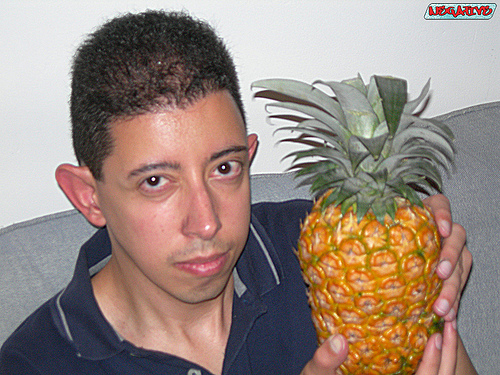pineapple: (249, 70, 458, 374)
